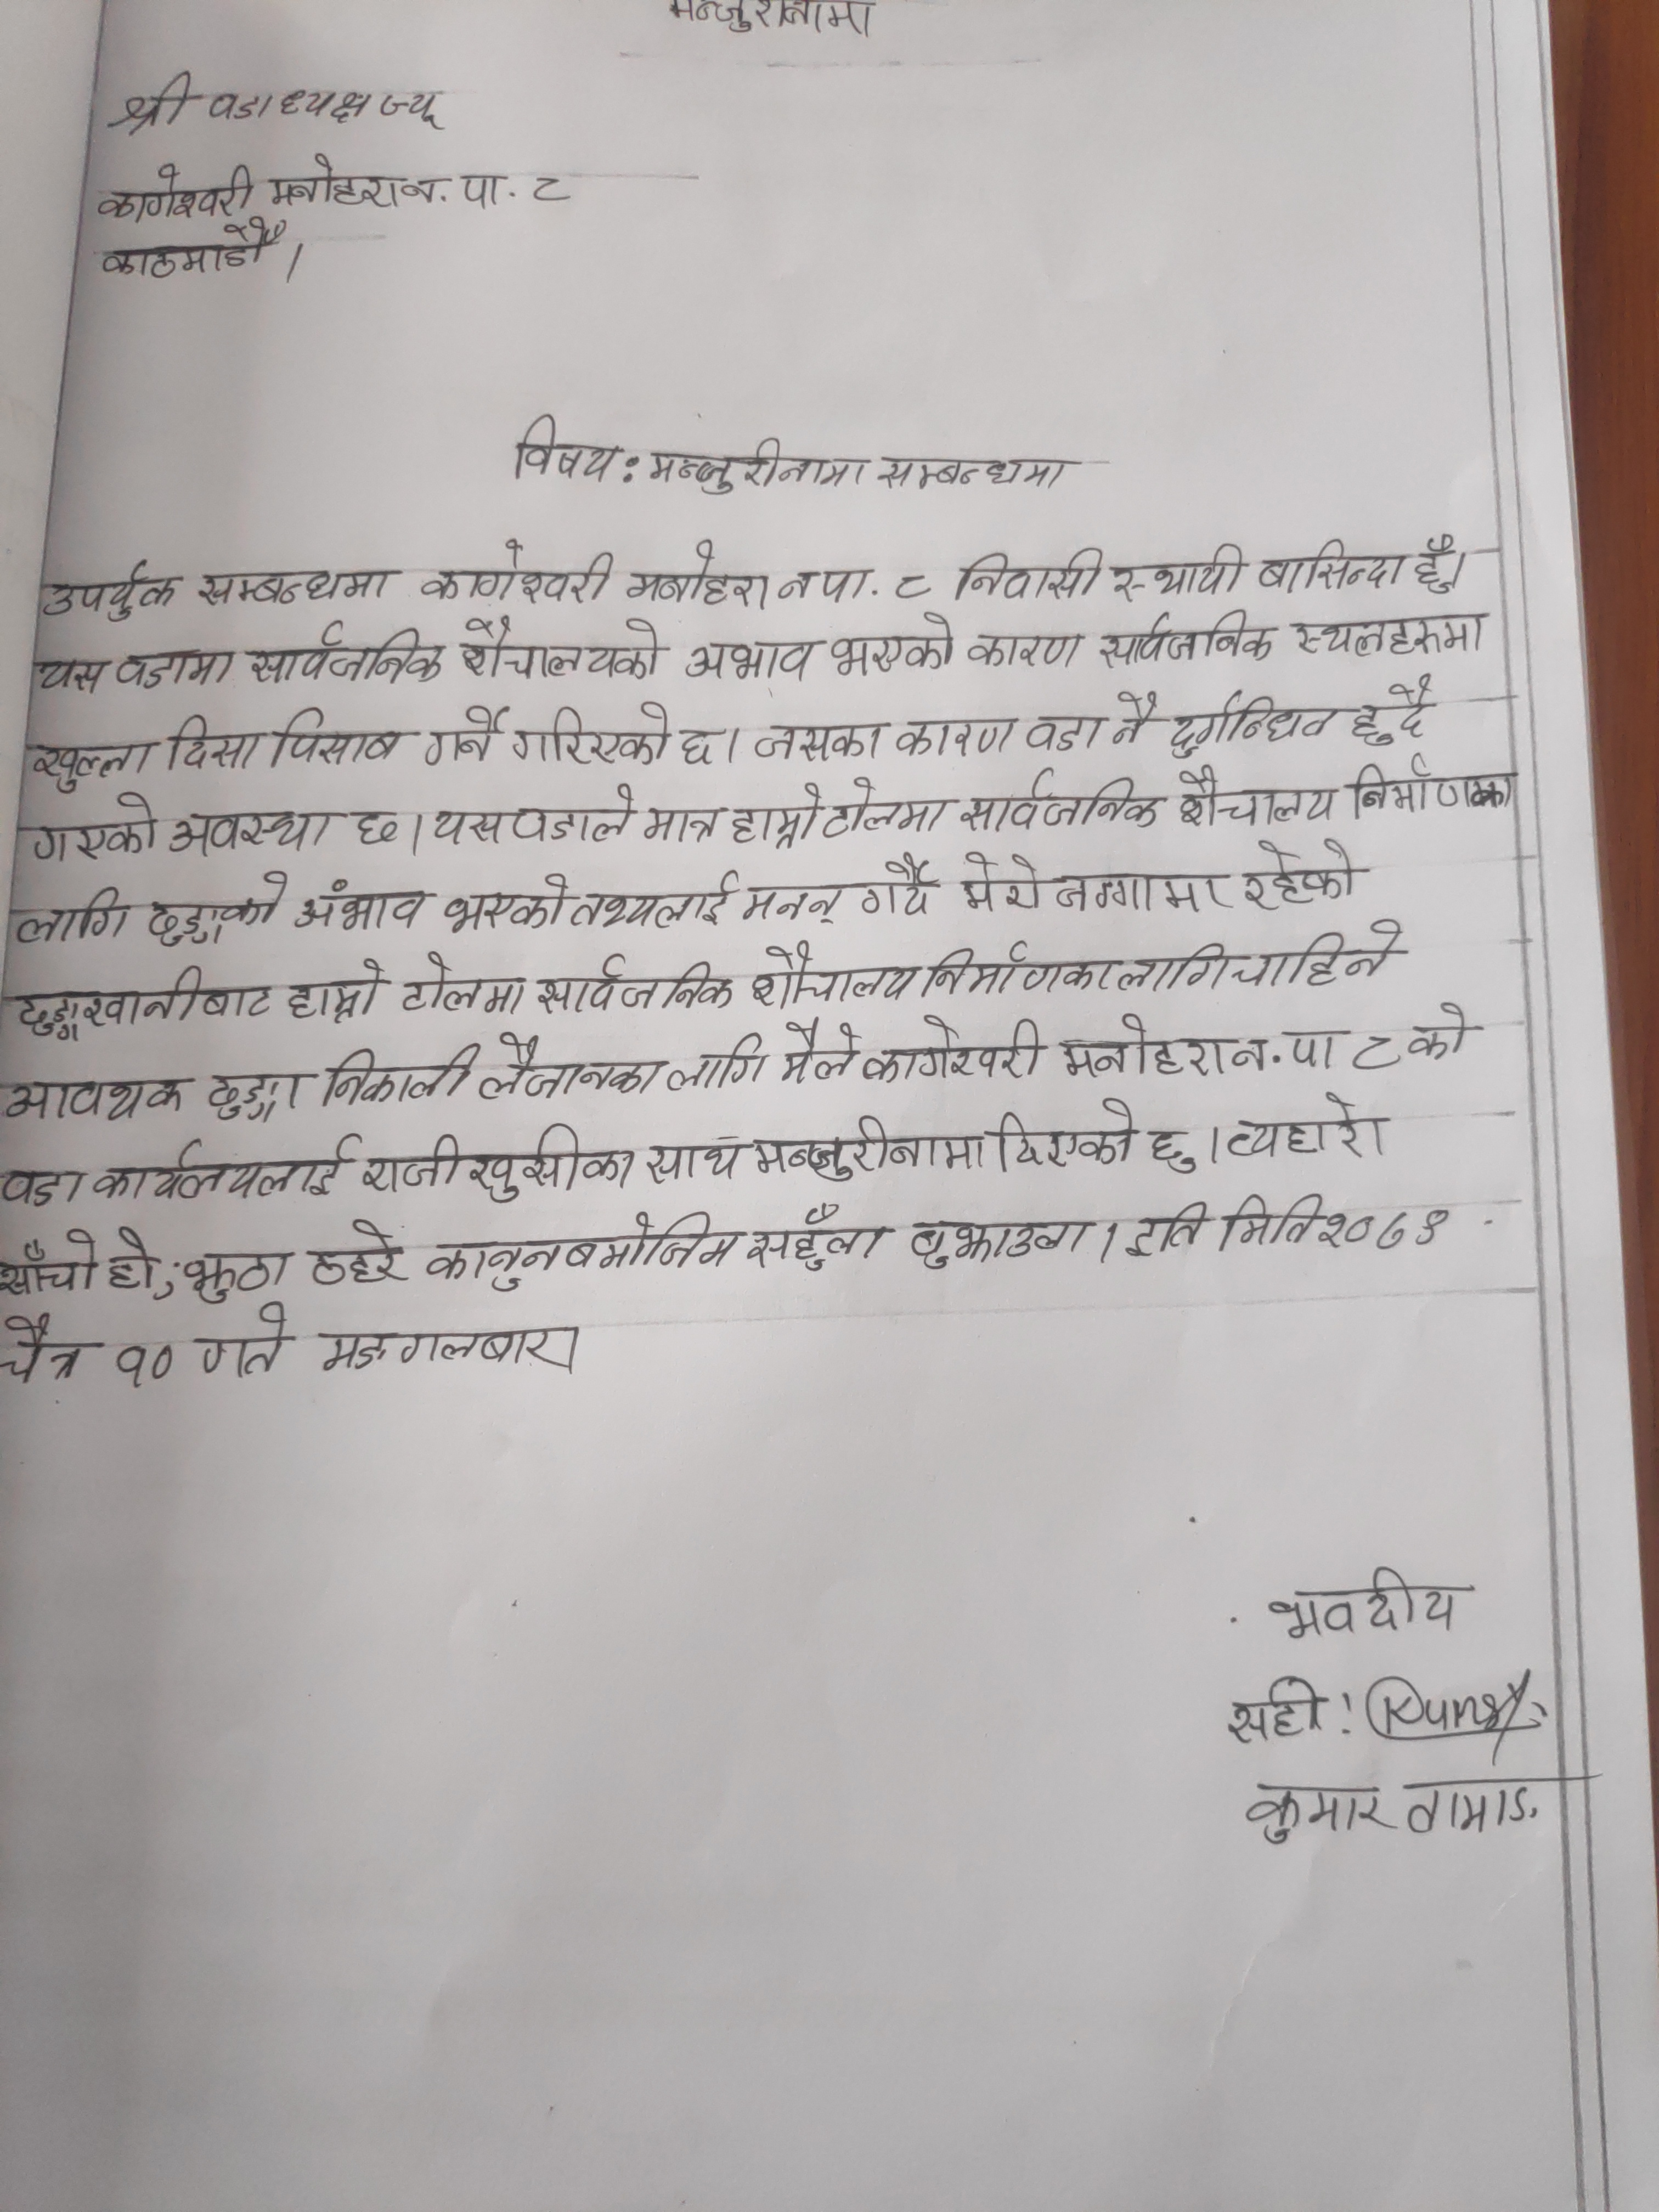text: (418, 1209, 741, 1292), (89, 1132, 366, 1209), (368, 1123, 638, 1198), (9, 965, 272, 1040), (310, 1318, 584, 1381), (753, 1111, 985, 1183), (450, 613, 667, 686), (1262, 1566, 1473, 1641), (645, 430, 866, 498), (479, 1029, 666, 1104), (244, 620, 446, 688), (955, 770, 1168, 834), (864, 1014, 1047, 1087), (416, 540, 619, 604), (537, 949, 739, 1014), (1054, 1012, 1232, 1085), (1220, 1090, 1396, 1163), (1236, 921, 1410, 993), (1293, 608, 1493, 669), (141, 869, 291, 949), (509, 698, 673, 770), (620, 536, 772, 613), (993, 1094, 1141, 1172), (1405, 1766, 1553, 1844), (749, 939, 922, 1005), (931, 939, 1114, 1000), (1169, 690, 1333, 758), (96, 223, 282, 282), (903, 1211, 1094, 1268), (1237, 1782, 1398, 1850), (1094, 608, 1277, 667), (1168, 765, 1340, 827), (324, 1043, 479, 1111), (566, 873, 741, 932), (1232, 836, 1363, 914), (1351, 754, 1513, 817), (268, 702, 410, 773), (748, 1204, 890, 1273), (42, 557, 192, 622), (2, 1069, 192, 1120), (31, 792, 162, 866), (392, 949, 528, 1019), (96, 162, 260, 219), (164, 805, 342, 857), (1107, 536, 1248, 601), (511, 780, 638, 852), (507, 411, 622, 489), (875, 449, 1073, 495), (261, 152, 404, 214), (946, 547, 1107, 601), (831, 611, 955, 681), (193, 564, 399, 606), (206, 82, 375, 132), (30, 730, 162, 794), (443, 869, 570, 935), (1222, 1674, 1328, 1752), (401, 169, 575, 216), (823, 775, 953, 838), (664, 2, 877, 40), (295, 876, 434, 934), (197, 1301, 291, 1385), (1253, 540, 1406, 590), (1053, 866, 1223, 911), (12, 887, 132, 949), (305, 1219, 413, 1289), (286, 956, 390, 1026), (723, 779, 824, 850), (2, 1228, 99, 1301), (5, 1308, 94, 1386), (160, 711, 267, 775), (112, 646, 242, 698), (680, 639, 824, 686), (1323, 1205, 1453, 1256), (953, 850, 1047, 920), (772, 1014, 861, 1087), (181, 1247, 293, 1305), (753, 719, 889, 766), (202, 1064, 307, 1123), (666, 1035, 770, 1094), (422, 702, 511, 770), (741, 873, 850, 927), (1117, 944, 1234, 995), (1223, 1191, 1323, 1251), (108, 71, 200, 134), (856, 852, 934, 923), (1354, 678, 1434, 747), (889, 718, 1019, 759), (1232, 1029, 1347, 1075), (1122, 1202, 1213, 1259), (641, 1137, 748, 1186), (965, 627, 1086, 669), (101, 1221, 162, 1298), (1415, 998, 1476, 1069), (430, 799, 505, 857), (0, 1160, 82, 1211), (779, 561, 870, 606), (1025, 709, 1107, 754), (1105, 685, 1159, 752), (347, 799, 403, 862), (1406, 531, 1460, 596), (31, 655, 115, 695), (115, 1339, 183, 1388), (643, 801, 723, 841), (1150, 1122, 1204, 1179), (373, 92, 444, 132), (1344, 1029, 1403, 1076), (676, 721, 716, 770), (885, 571, 929, 606)
